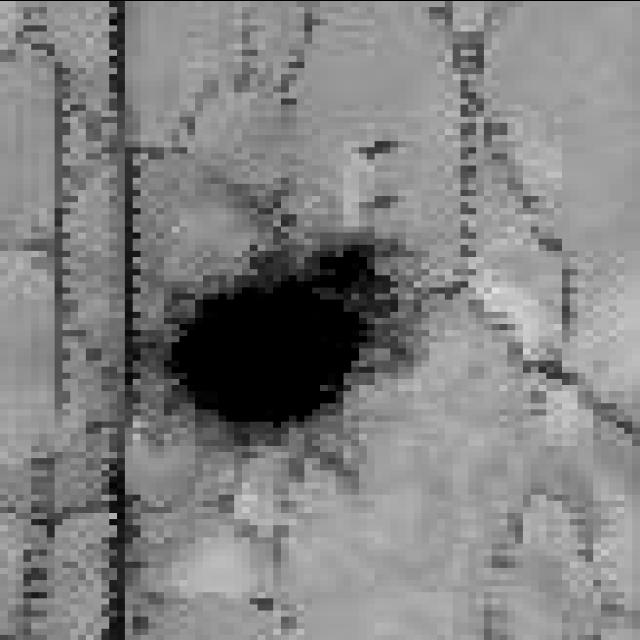good_void: (151, 241, 416, 457)
